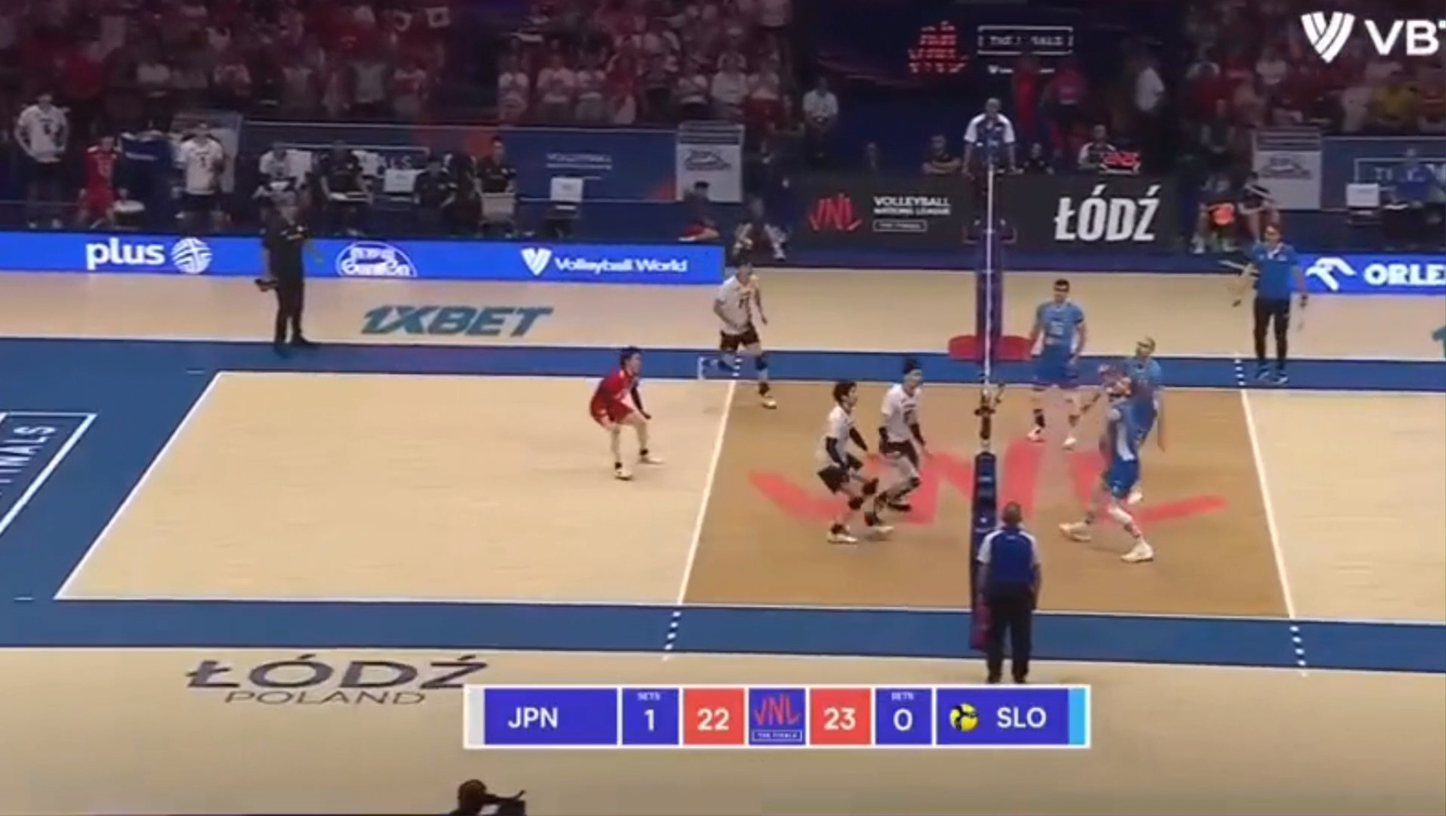player: (1060, 381, 1154, 562), (1027, 278, 1087, 449), (1079, 337, 1163, 444)
player 1: (697, 236, 777, 409), (818, 381, 877, 542), (589, 348, 660, 480), (875, 359, 925, 512), (864, 510, 891, 534)
referee: (977, 502, 1042, 683), (1241, 224, 1308, 383), (255, 204, 316, 355), (962, 97, 1017, 243)
